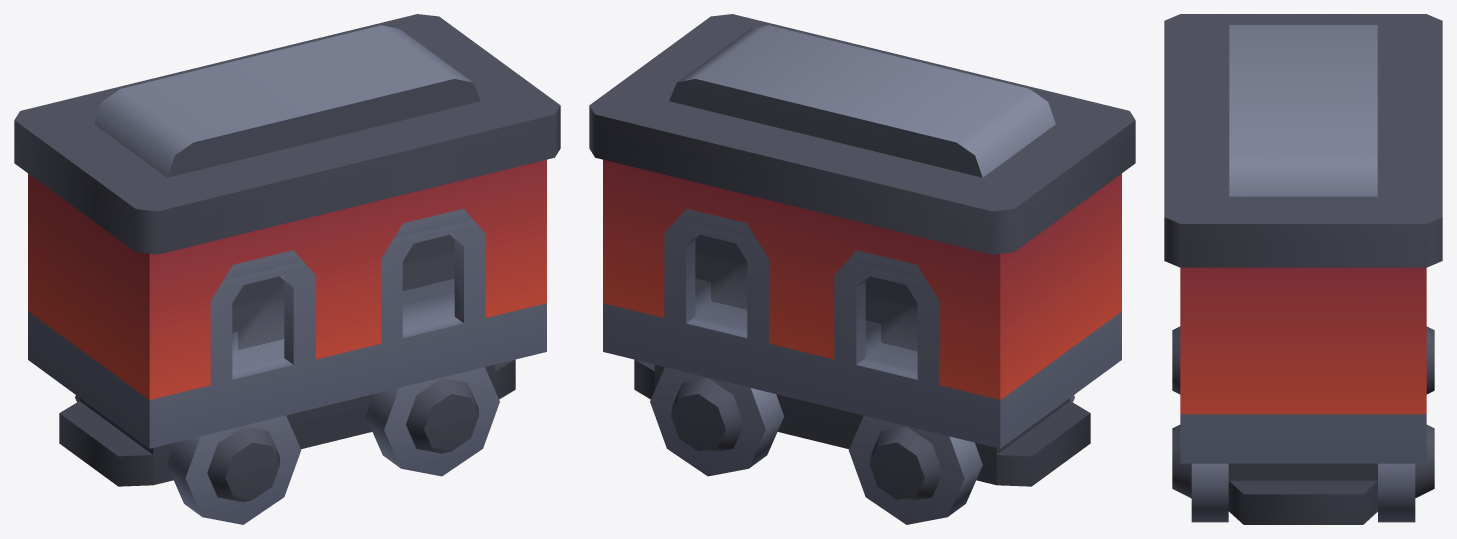
File: train-wagon-short.glb
3 renders of one model, left to right at view 1: azimuth 30°, elevation 25°; view 2: azimuth 150°, elevation 25°; view 3: azimuth 270°, elevation 25°, orthographic.
Visible parts, largest first — view 1: train-wagon-short; view 2: train-wagon-short; view 3: train-wagon-short.
Boxes of the visible parts, x1=… form: train-wagon-short: x1=14, y1=14, x2=560, y2=524; train-wagon-short: x1=589, y1=14, x2=1135, y2=524; train-wagon-short: x1=1164, y1=14, x2=1442, y2=524.
Bounding box in the file's own units: 0.3697 × 0.313 × 0.207.
1 material, 1 textured.
